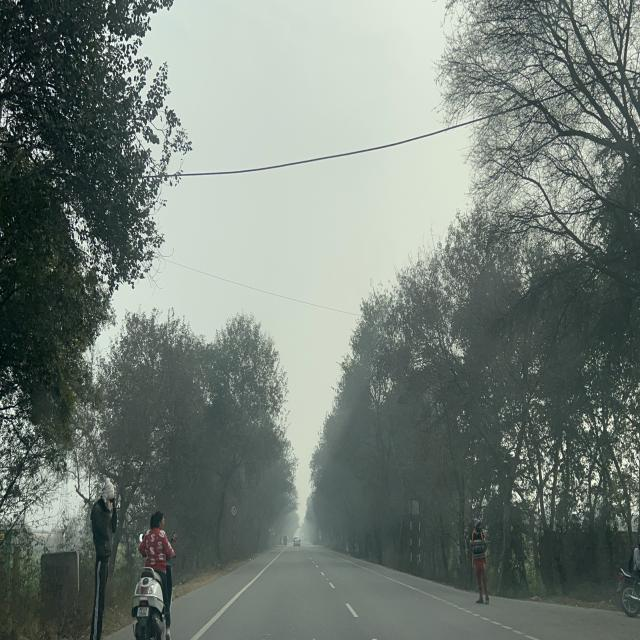OVERTAKING_PROHIBITED: (230, 505, 238, 516)
